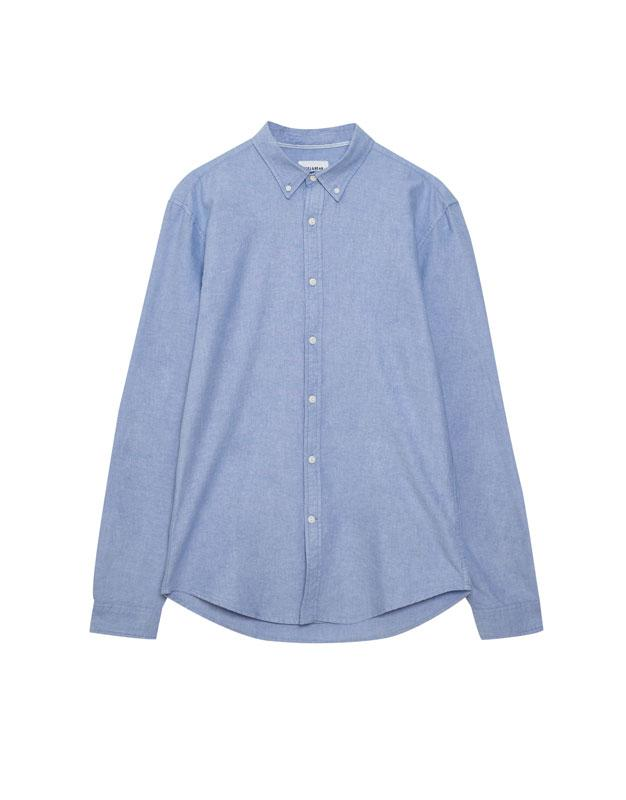teeshirt: (77, 114, 552, 668)
